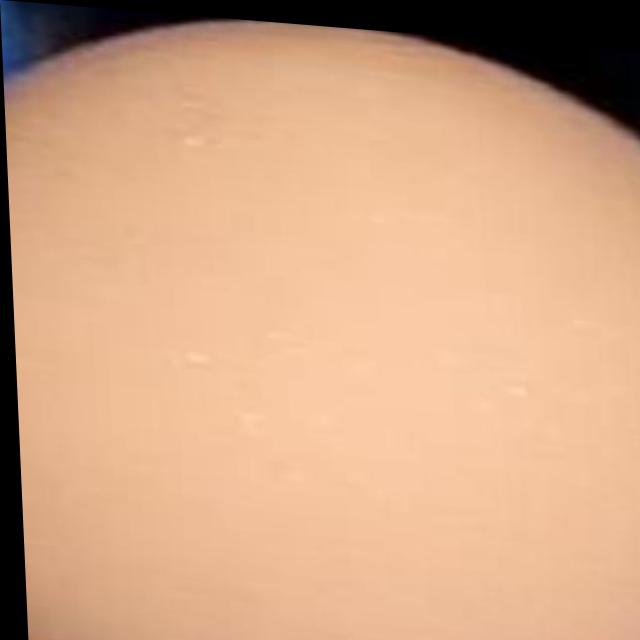fresh: (0, 13, 640, 640)
